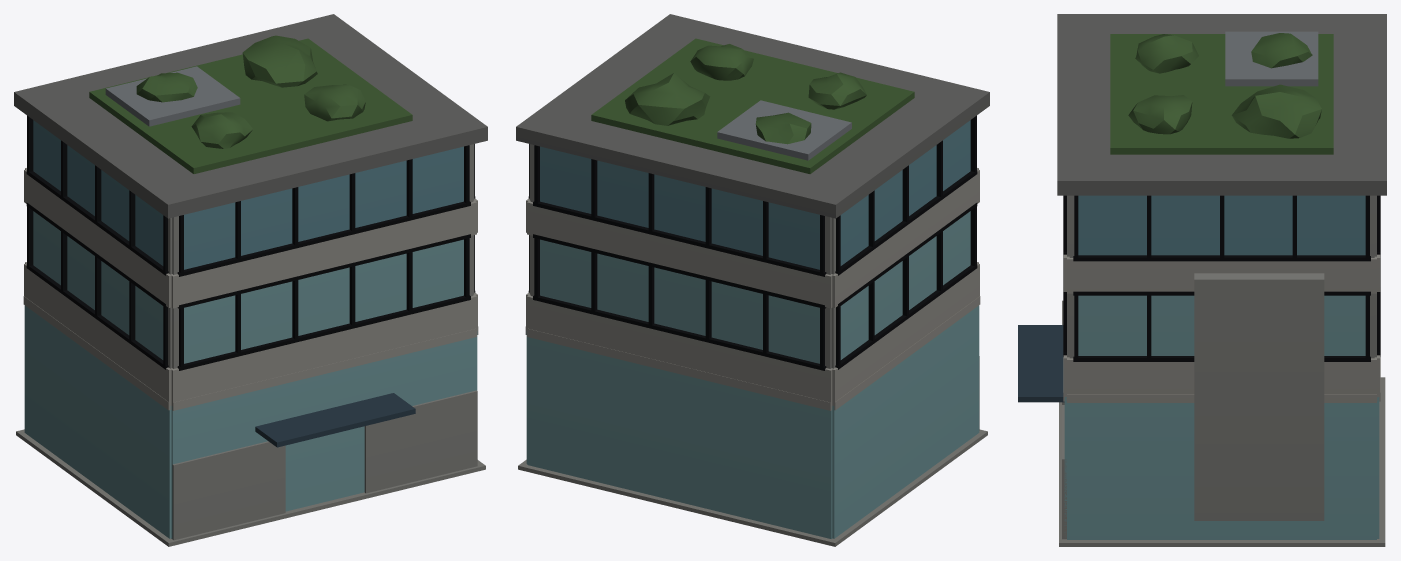
The model's file is town_city_block_low.glb.
3 views of the same model, side by side, from view 1: azimuth 30°, elevation 25°; view 2: azimuth 150°, elevation 25°; view 3: azimuth 270°, elevation 25° (orthographic). The views are drawn at different scales.
Visible parts, largest first — view 1: prop; view 2: prop; view 3: prop.
Boxes of the visible parts, x1,y1,x2,y2 form: prop: (14,14,487,546); prop: (516,14,989,546); prop: (1018,14,1386,546).
Bounding box in the file's own units: 12.34 × 13.59 × 11.3.
